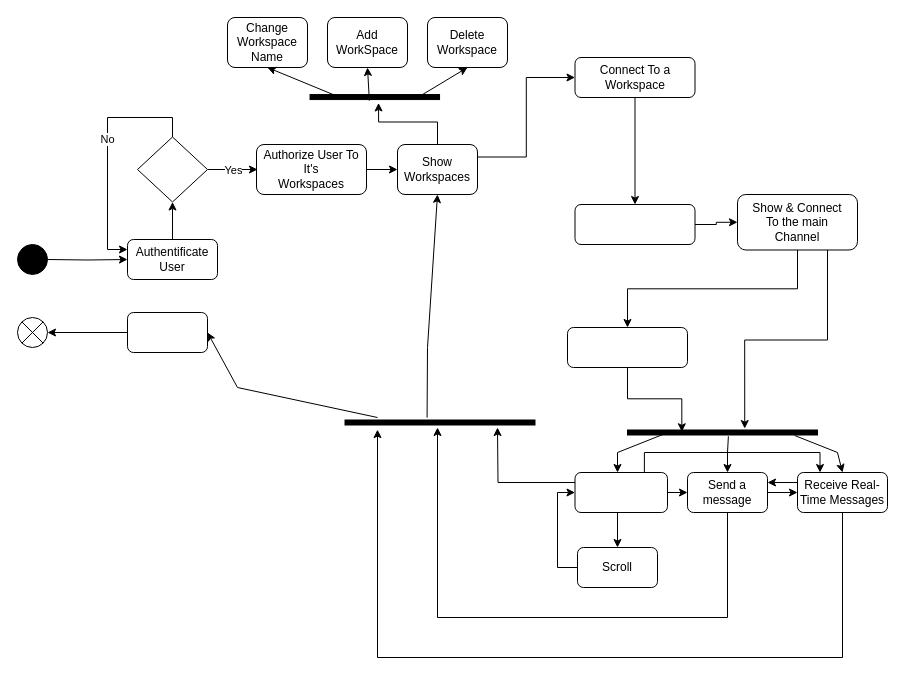
Some shapes in this 905 by 683 pixel diagram are drawn without their labels. The centre of each missing label's shape, as x and y in pixels:
"Connect To another Channel" belongs at point (627, 347).
"Get Recent Old Messages" belongs at point (621, 492).
"Logout" belongs at point (167, 332).
"Show User Channels In The Workspace" belongs at point (634, 224).
"Success ?" belongs at point (172, 169).
